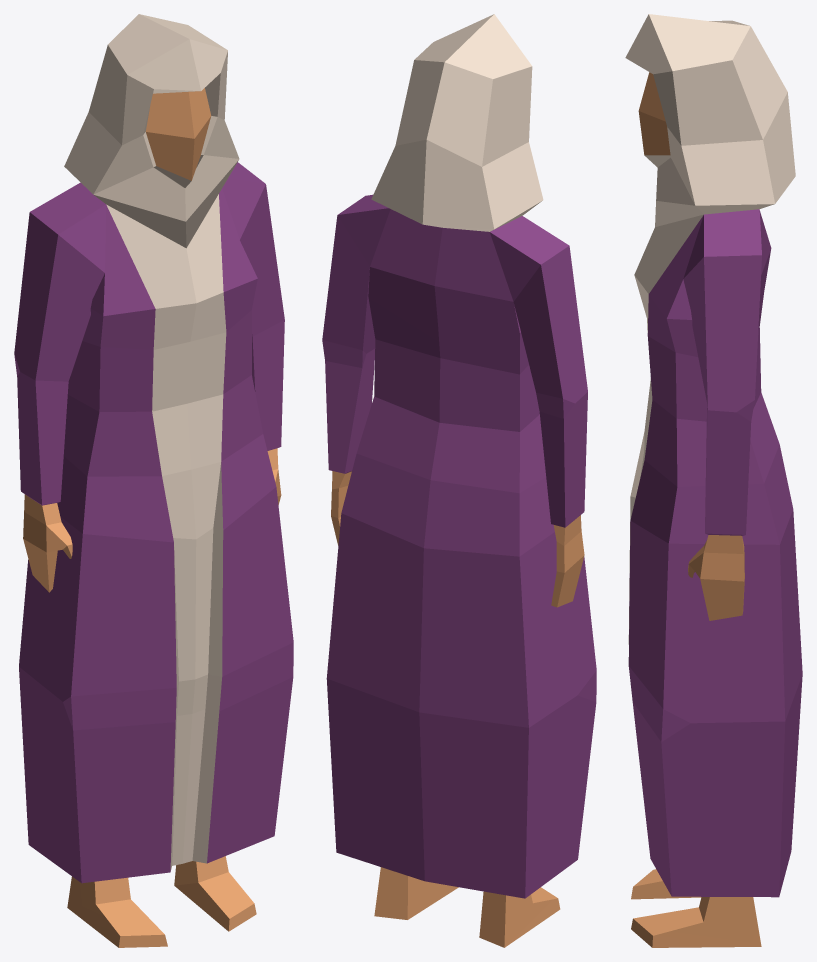
Rendered from woman-nanny.glb.
3 renders of one model, left to right at view 1: azimuth 30°, elevation 25°; view 2: azimuth 150°, elevation 25°; view 3: azimuth 270°, elevation 25°, orthographic. The views are drawn at different scales.
Visible parts, largest first — view 1: woman-nanny; view 2: woman-nanny; view 3: woman-nanny.
Boxes of the visible parts, x1,y1,x2,y2 form: woman-nanny: (14,14,293,947); woman-nanny: (322,14,596,947); woman-nanny: (625,14,802,947).
Bounding box in the file's own units: 0.5405 × 1.84 × 0.3277.
1 material, 1 textured.
